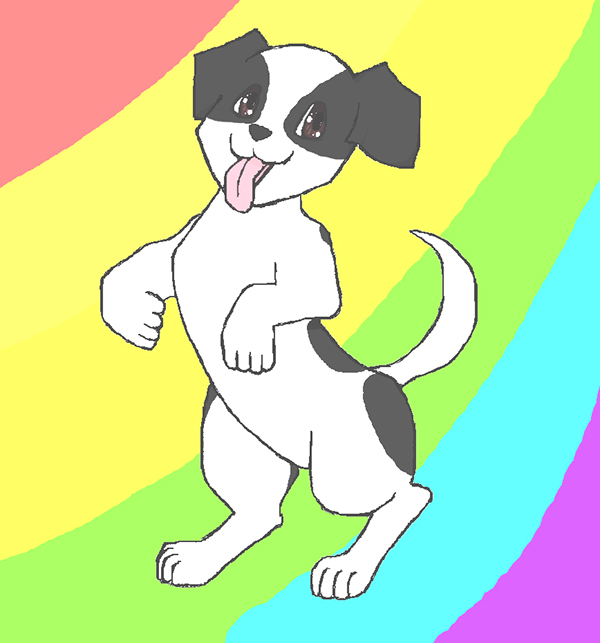dog: (85, 16, 507, 607)
